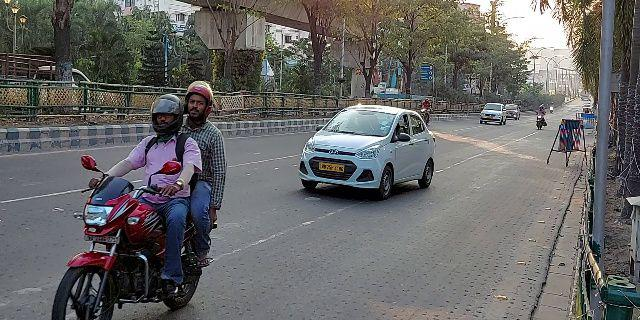Car: (298, 104, 438, 204), (478, 102, 511, 128)
Motorbike: (50, 77, 224, 318), (532, 103, 549, 131)
